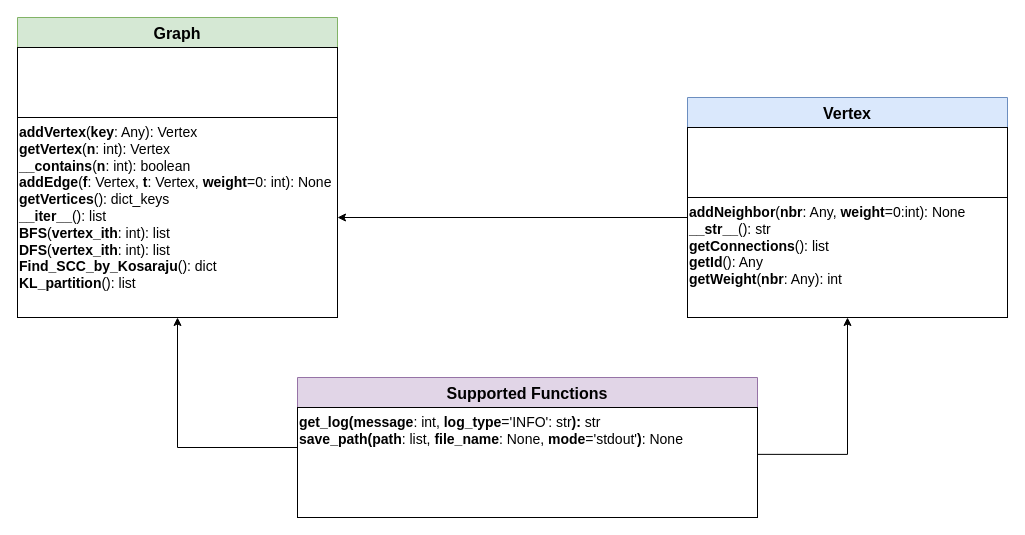
The diagram is 1025 pixels wide and 535 high, and some of its shapes have lost their labels. Each missing label, with the centre of its shape:
"id : Any connectedTo : dict" belongs at [847,162].
"vertList : dict numVertices : int" belongs at [177,82].
